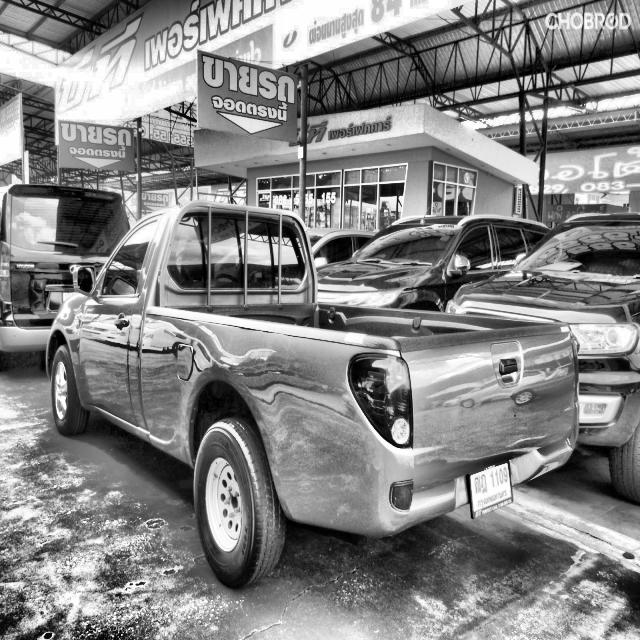license-plate: (464, 458, 516, 522)
